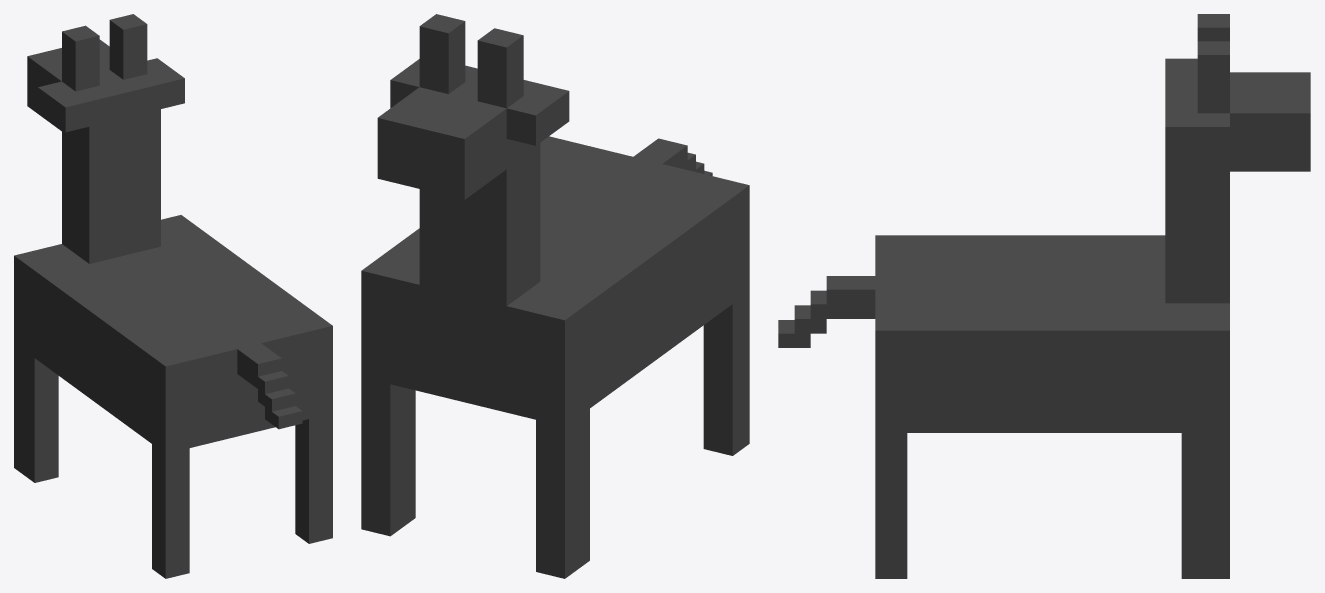
The model's file is Jirafa.obj.
3 views of the same model, side by side, from view 1: azimuth 30°, elevation 25°; view 2: azimuth 150°, elevation 25°; view 3: azimuth 270°, elevation 25° (orthographic). The views are drawn at different scales.
Bounding box in the file's own units: 1.4 × 3.4 × 3.3.
